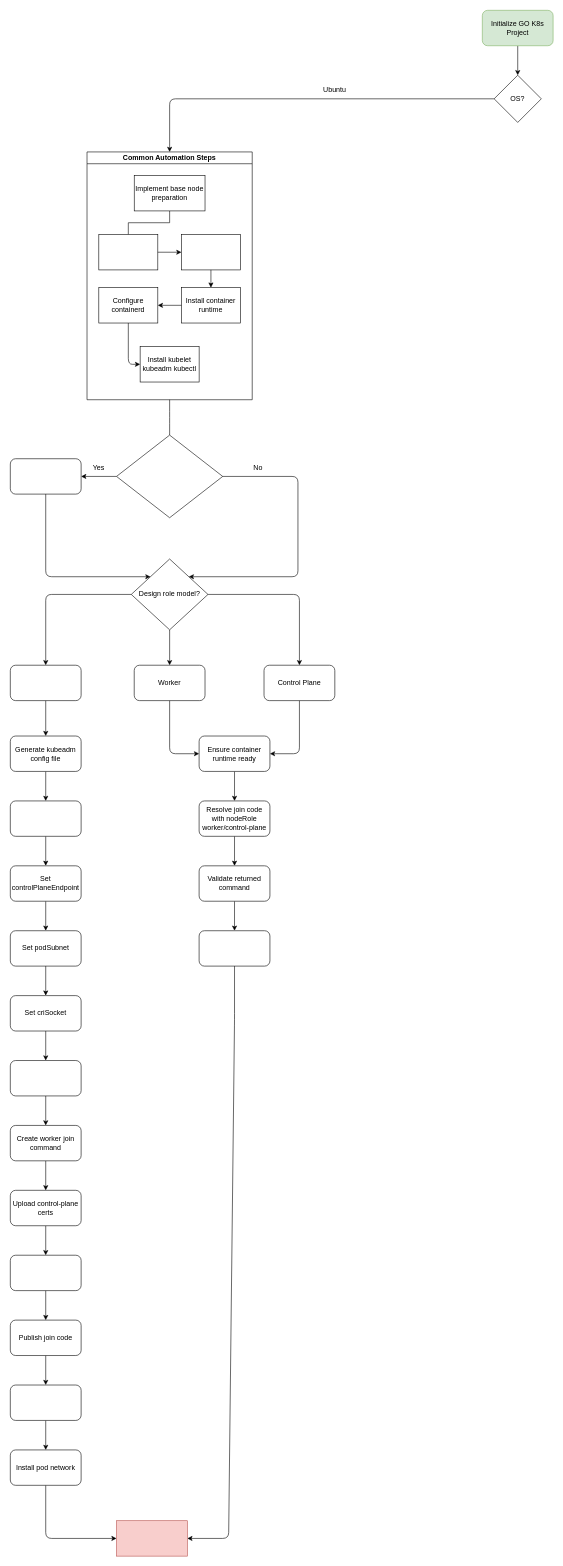
This 563x1566 diagram has some shape labels left out. The centre of each missing label's shape, as x and y in pixels:
"Configure kubectl" goes at point (45, 1402).
"Create control-plane join command" goes at point (45, 1273).
"Disable swap" goes at point (210, 252).
"Existing state?" goes at point (169, 476).
"kubeadm init --config --upload-certs" goes at point (45, 1078).
"kubeadm join" goes at point (234, 948).
"Master" goes at point (45, 683).
"Ready!" goes at point (151, 1538).
"Reset & Cleanup node" goes at point (45, 476).
"Set localAPIEndpoint advertiseAddress" goes at point (45, 818).
"Update OS" goes at point (128, 252).
